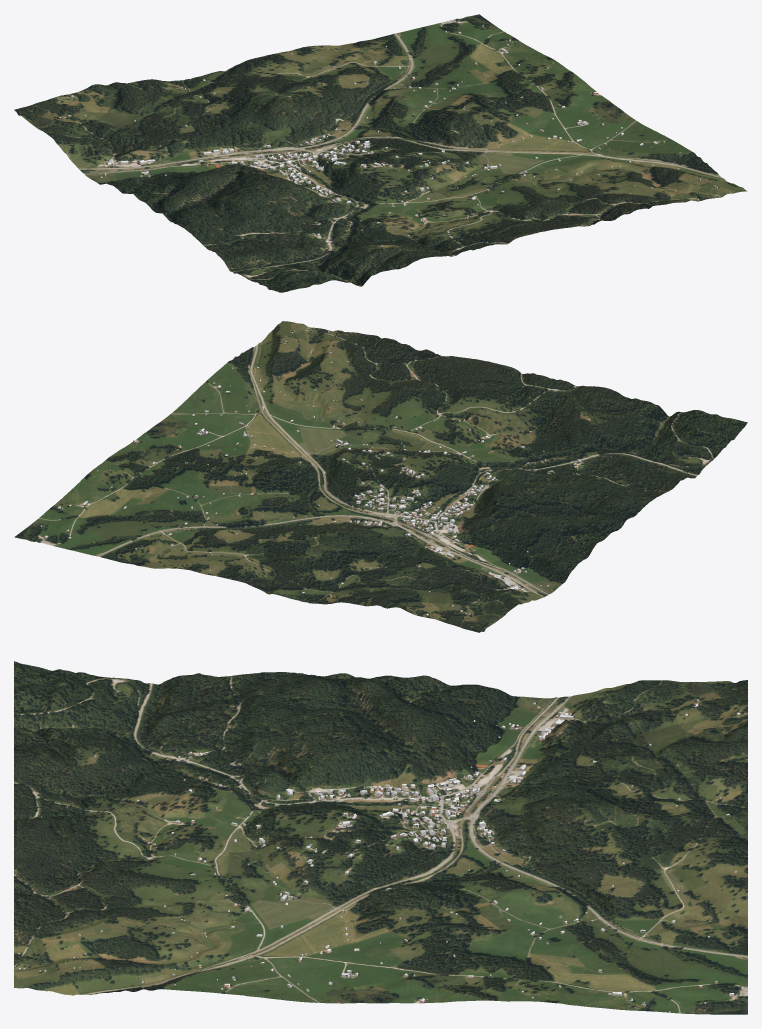
File: asset.glb
3 renders of one model, top to bottom at view 1: azimuth 30°, elevation 25°; view 2: azimuth 150°, elevation 25°; view 3: azimuth 270°, elevation 25°, orthographic. The views are drawn at different scales.
Parts seen in each view (by area): view 1: Klais_DGM_8m, LoD2_3-34; view 2: Klais_DGM_8m, LoD2_3-34; view 3: Klais_DGM_8m, LoD2_3-34.
Boxes of the visible parts, x1,y1,x2,y2 form: Klais_DGM_8m: (14,14,747,292); LoD2_3-34: (59,21,718,246); Klais_DGM_8m: (14,321,747,632); LoD2_3-34: (40,328,589,615); Klais_DGM_8m: (14,661,747,1014); LoD2_3-34: (18,699,740,1012).
Size of the model in its own units: 1992 by 134 by 1992.
1 material, 1 textured.
